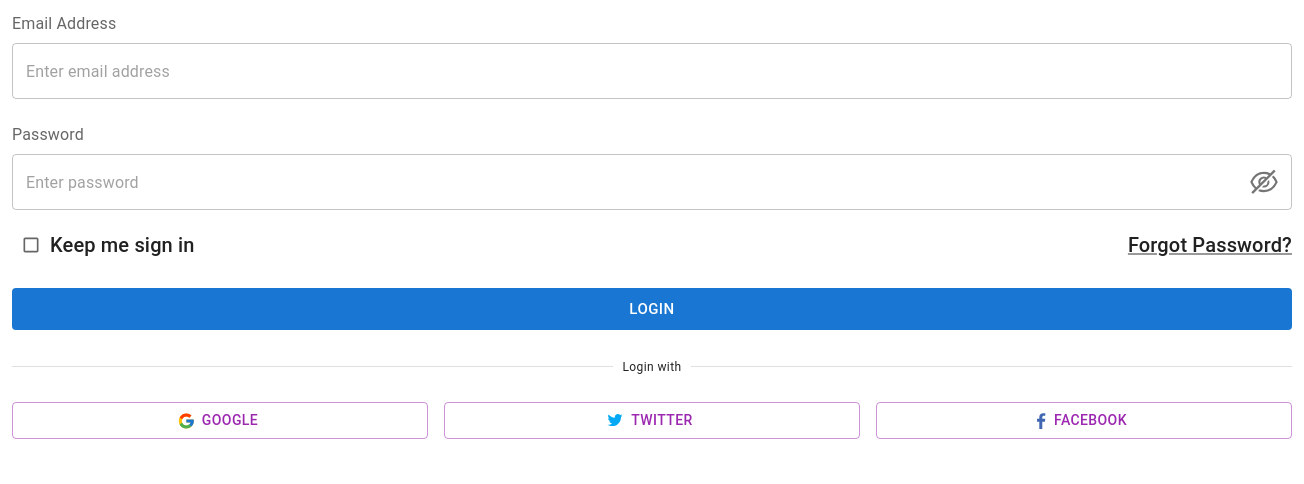
Error mess valid email should show when type invalid email
This screenshot has width=1304, height=484.
Type "test" into the field with placeholder "Enter email address" at (652, 71), box [12,43,1292,99]
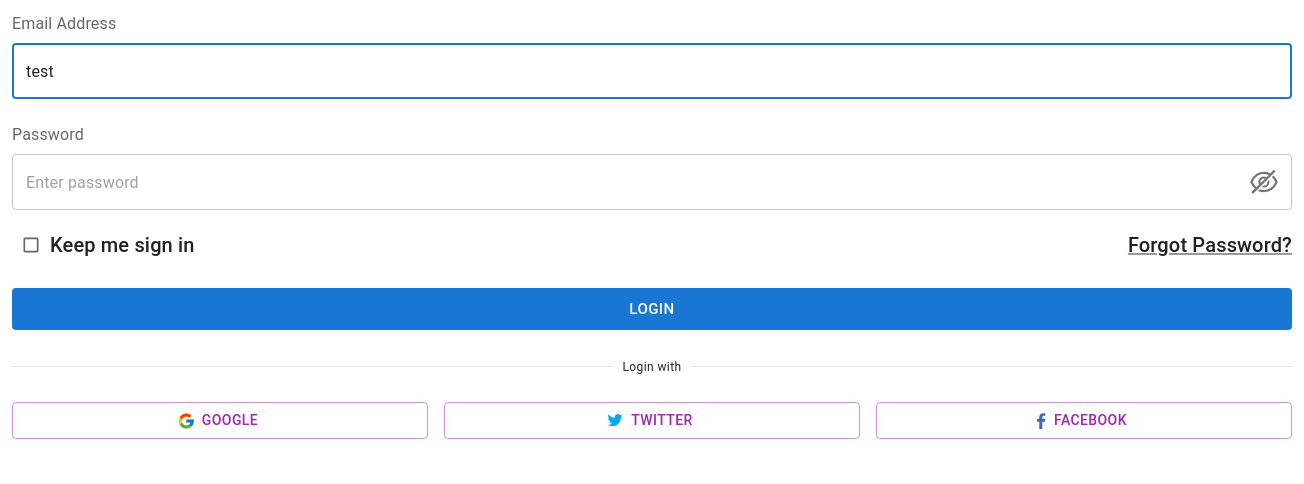
Leave the field with placeholder "Enter email address", box [12,43,1292,99]
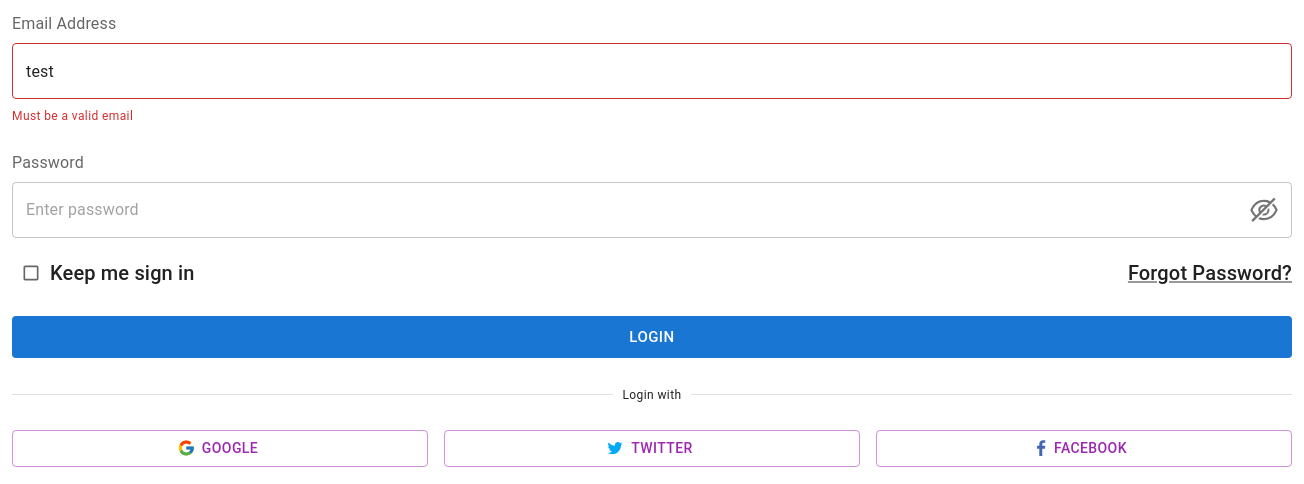
Result: the text "Must be a valid email" is shown at [12,109,133,123]
